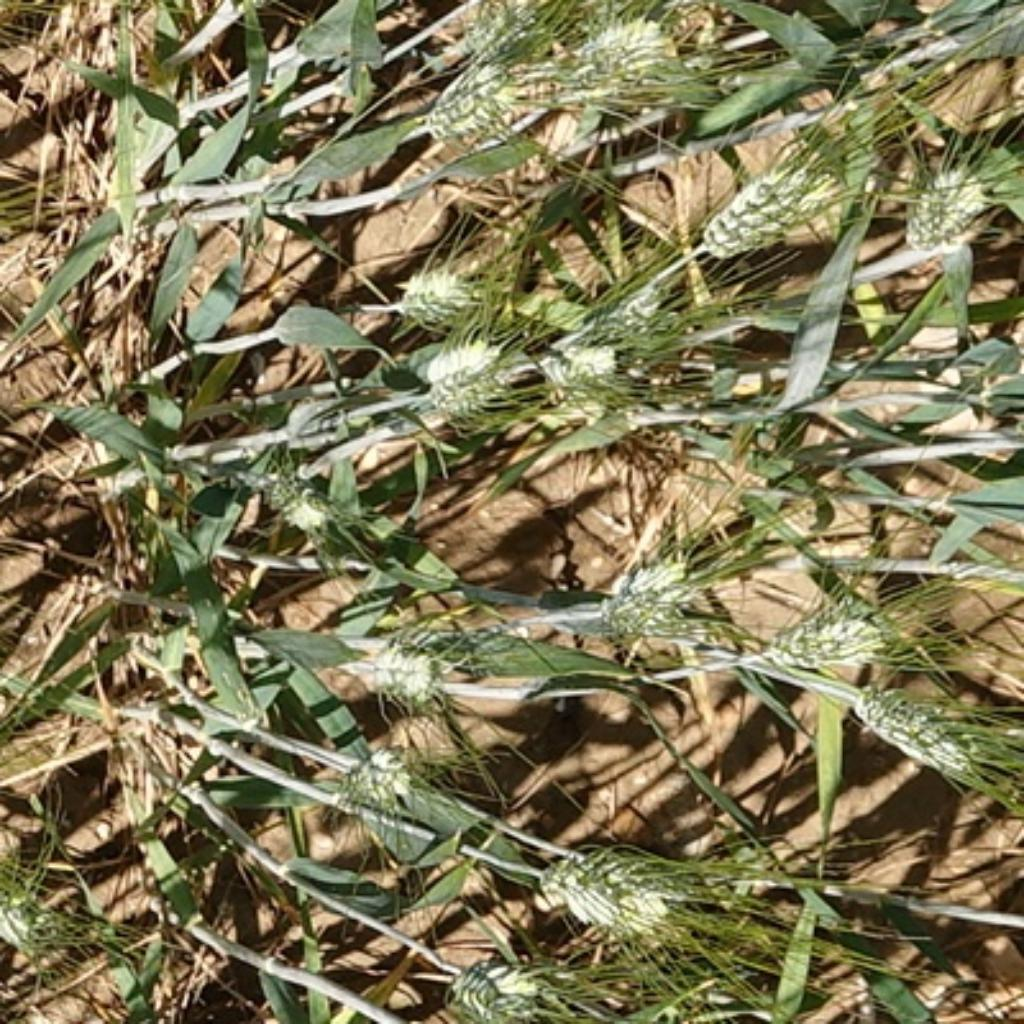0-0: (547, 0, 698, 128), (424, 931, 596, 1021), (691, 156, 837, 258), (755, 593, 913, 678), (851, 676, 983, 771), (539, 860, 667, 943), (896, 145, 993, 253), (243, 448, 358, 535), (420, 56, 537, 140), (590, 557, 702, 641), (412, 327, 514, 414), (341, 634, 451, 706), (337, 738, 435, 815), (576, 284, 680, 355), (455, 0, 558, 71), (581, 840, 688, 906), (389, 256, 488, 327), (537, 327, 627, 396), (0, 870, 58, 965)
